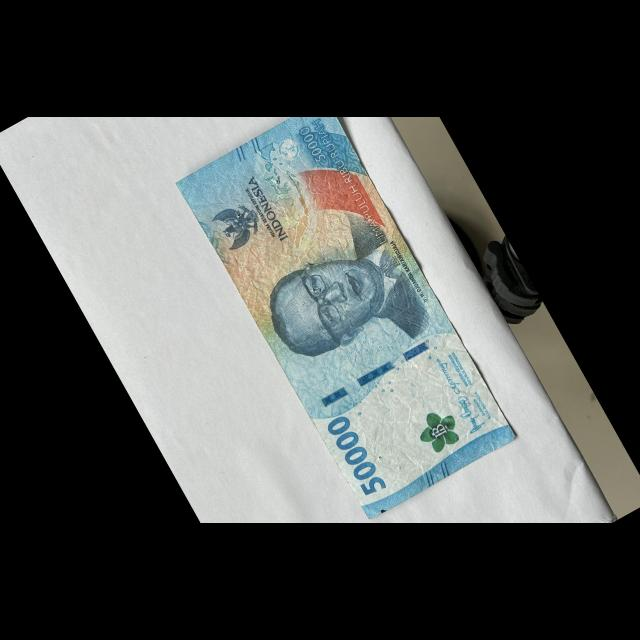Palsu-50k: (170, 93, 522, 528)
Tinta-Palsu-50k: (410, 404, 466, 459)
